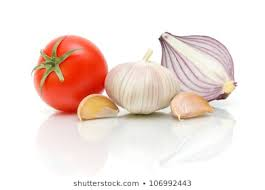onion: (158, 32, 239, 103), (104, 61, 180, 116)
tomato: (33, 36, 107, 113)
